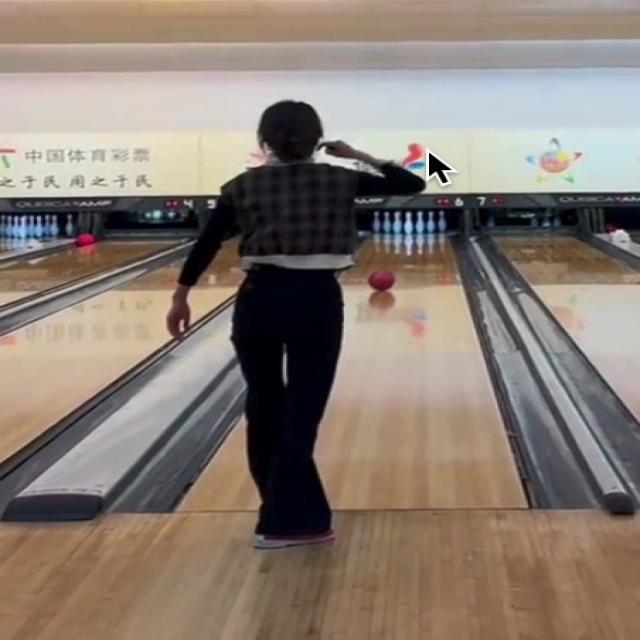alley: (323, 232, 528, 515), (176, 425, 259, 516)
balls: (371, 210, 449, 235), (368, 268, 395, 292)
